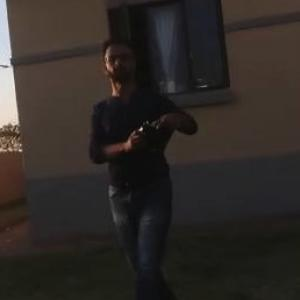follow: (82, 25, 206, 299)
